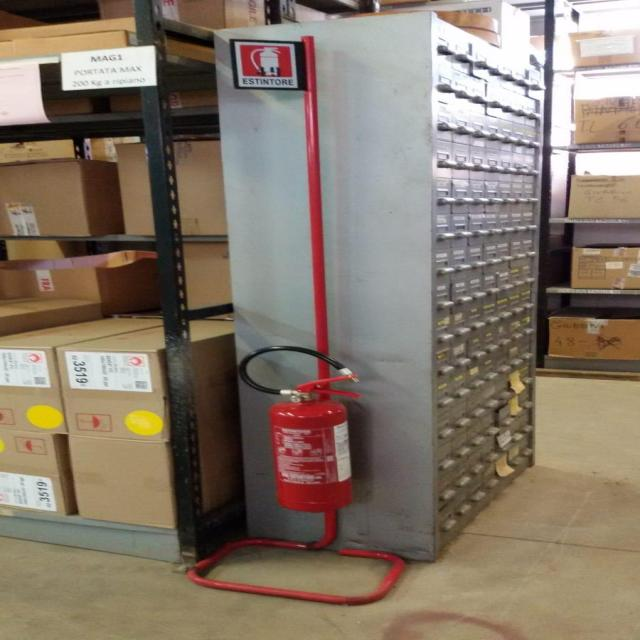fire_extinguisher: (232, 343, 367, 515)
